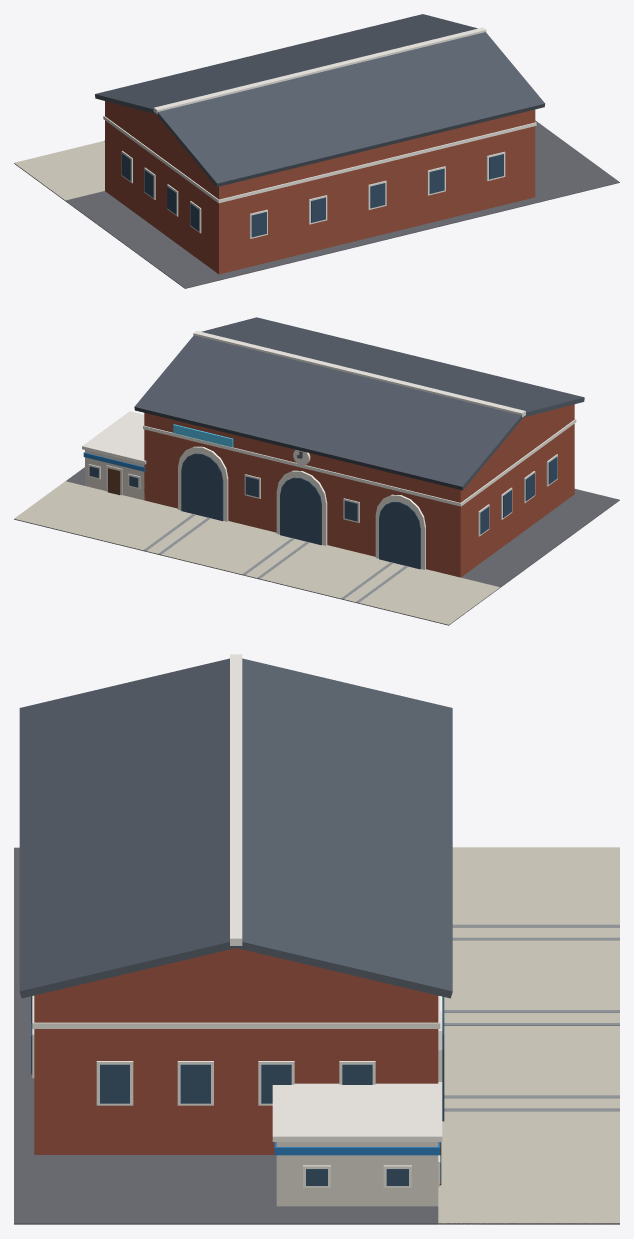
The model's file is tramdepot.glb.
3 renders of one model, top to bottom at view 1: azimuth 30°, elevation 25°; view 2: azimuth 150°, elevation 25°; view 3: azimuth 270°, elevation 25°, orthographic. The views are drawn at different scales.
Parts seen in each view (by area): view 1: roof (×2), shed, yard, apron, ridge, string_course, shed_gable; view 2: roof (×2), shed, apron, tram_opening (×3), yard, arch_surround (×3), office_roof, ridge, string_course, office, shed_gable, sign; view 3: roof (×2), apron, shed, yard, office_roof, office, shed_gable, ridge, window_glass (×3), string_course, accent_stripe.
Part boxes in pixels (bbox=[...]): roof (×2): bbox=[95, 14, 545, 186]; shed: bbox=[105, 101, 535, 274]; yard: bbox=[14, 120, 619, 288]; apron: bbox=[14, 141, 104, 200]; ridge: bbox=[153, 27, 486, 114]; string_course: bbox=[103, 115, 536, 203]; shed_gable: bbox=[112, 103, 199, 167]; roof (×2): bbox=[134, 317, 584, 490]; shed: bbox=[144, 404, 574, 577]; apron: bbox=[14, 481, 499, 624]; tram_opening (×3): bbox=[181, 453, 420, 569]; yard: bbox=[14, 467, 619, 625]; arch_surround (×3): bbox=[178, 446, 425, 569]; office_roof: bbox=[82, 411, 146, 464]; ridge: bbox=[193, 331, 525, 417]; string_course: bbox=[143, 419, 576, 506]; office: bbox=[85, 450, 145, 500]; shed_gable: bbox=[479, 406, 567, 470]; sign: bbox=[173, 424, 233, 447]; roof (×2): bbox=[19, 658, 452, 998]; apron: bbox=[438, 847, 619, 1224]; shed: bbox=[34, 990, 438, 1154]; yard: bbox=[14, 847, 619, 1224]; office_roof: bbox=[272, 1082, 442, 1141]; office: bbox=[276, 1142, 438, 1206]; shed_gable: bbox=[57, 948, 414, 990]; ridge: bbox=[230, 654, 242, 945]; window_glass (×3): bbox=[100, 1064, 291, 1103]; string_course: bbox=[32, 995, 440, 1028]; accent_stripe: bbox=[274, 1142, 440, 1155].
Size of the model in its own units: 44 by 12.18 by 30.
